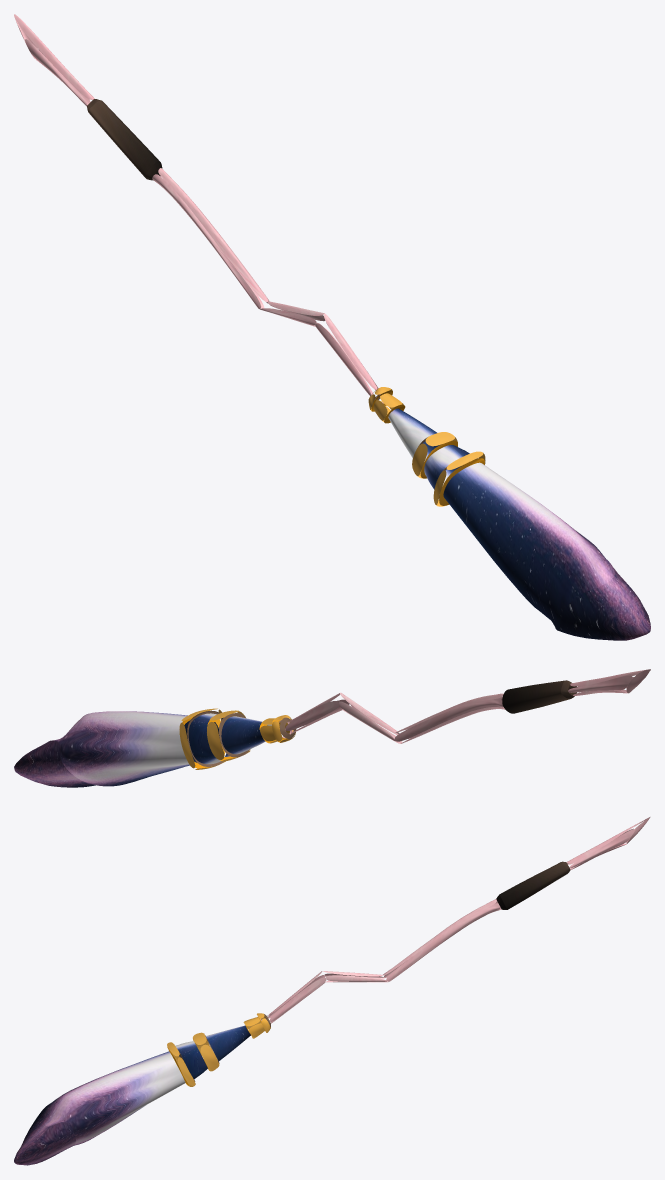
File: pinkStar.glb
The picture shows the model from 3 angles, top to bottom: view 1: azimuth 30°, elevation 25°; view 2: azimuth 210°, elevation 25°; view 3: azimuth 270°, elevation 25°; orthographic projection. The views are drawn at different scales.
Parts seen in each view (by area): view 1: MainStick; view 2: MainStick; view 3: MainStick.
Part boxes in pixels (<box>): MainStick: <box>14,14,650,640</box>; MainStick: <box>14,669,650,787</box>; MainStick: <box>14,817,650,1165</box>.
Bounding box in the file's own units: 4.77 × 7.8 × 16.2.
Materials: 1 (1 with a texture image).
